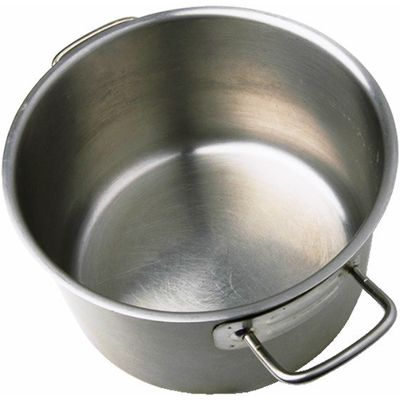Rec_Metal: (3, 6, 396, 392)
